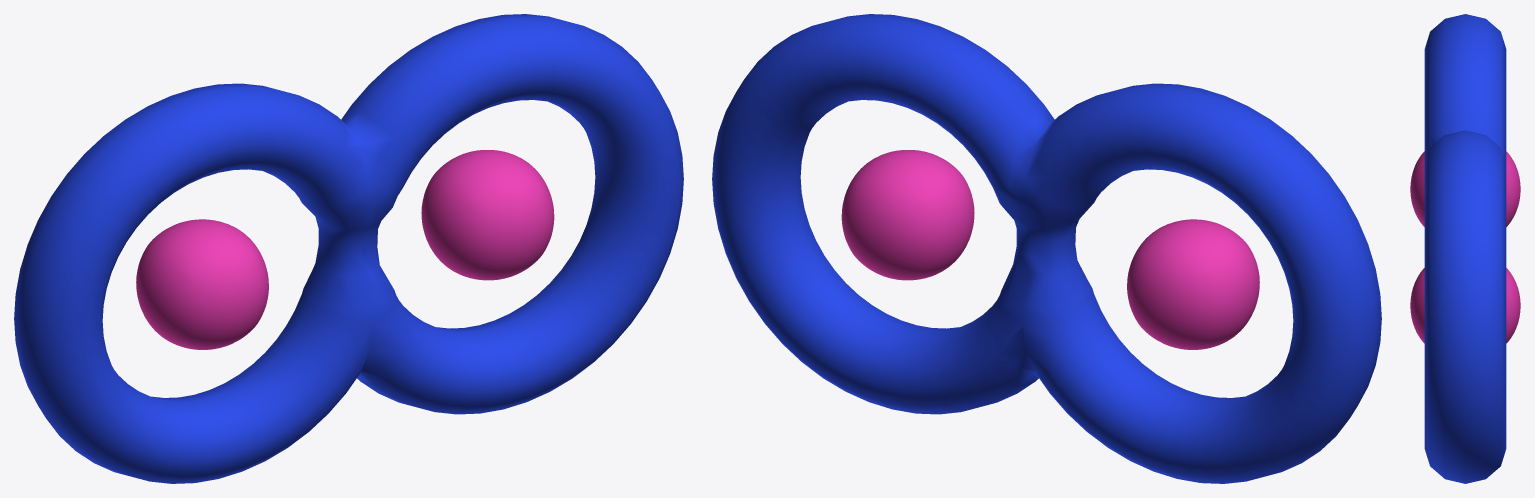
Rendered from infinite_balls.glb.
3 renders of one model, left to right at view 1: azimuth 30°, elevation 25°; view 2: azimuth 150°, elevation 25°; view 3: azimuth 270°, elevation 25°, orthographic. The views are drawn at different scales.
Parts seen in each view (by area): view 1: Cube.001; view 2: Cube.001; view 3: Cube.001.
Boxes of the visible parts, bbox=[...] form: Cube.001: bbox=[14, 14, 683, 483]; Cube.001: bbox=[712, 14, 1381, 483]; Cube.001: bbox=[1410, 14, 1520, 483].
Size of the model in its own units: 1.79 by 1 by 0.3122.
